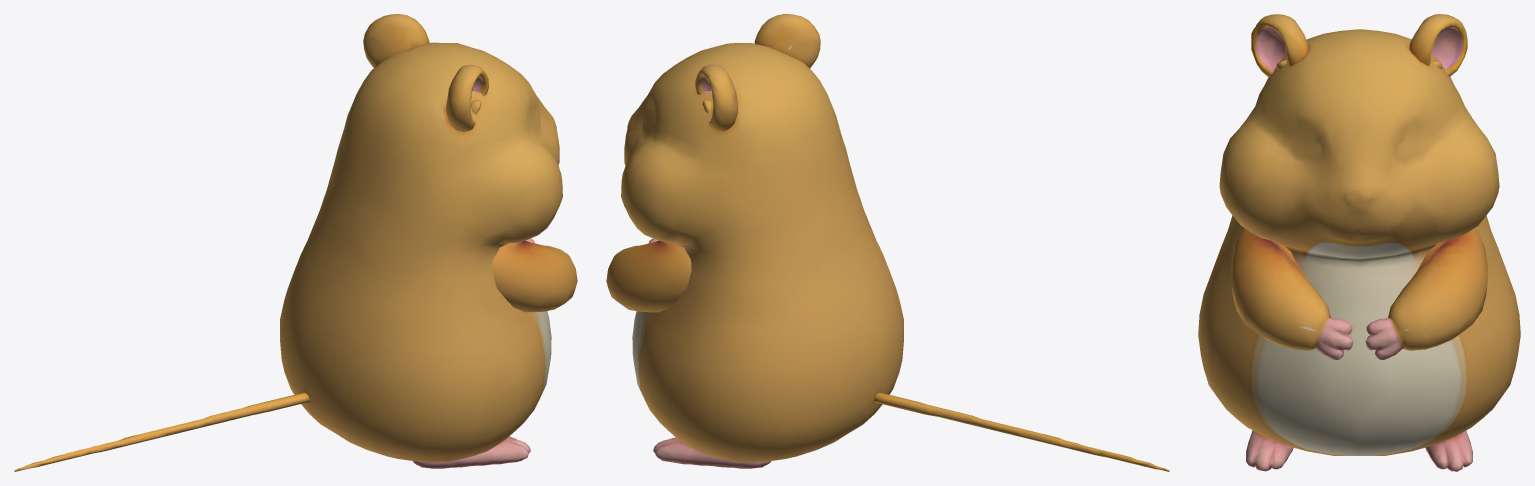
The model's file is hamster.glb.
3 views of the same model, side by side, from view 1: azimuth 30°, elevation 25°; view 2: azimuth 150°, elevation 25°; view 3: azimuth 270°, elevation 25° (orthographic). The views are drawn at different scales.
Parts seen in each view (by area): view 1: tripo_node_fbb61f51-9369-4fee-b5ae-f3ff919ab7b1; view 2: tripo_node_fbb61f51-9369-4fee-b5ae-f3ff919ab7b1; view 3: tripo_node_fbb61f51-9369-4fee-b5ae-f3ff919ab7b1.
Part boxes in pixels (x1,y1,x2,y2): tripo_node_fbb61f51-9369-4fee-b5ae-f3ff919ab7b1: (14, 14, 577, 471); tripo_node_fbb61f51-9369-4fee-b5ae-f3ff919ab7b1: (606, 14, 1169, 471); tripo_node_fbb61f51-9369-4fee-b5ae-f3ff919ab7b1: (1198, 14, 1520, 471).
Bounding box in the file's own units: 0.998 × 0.6972 × 0.4746.
1 material, 1 textured.
